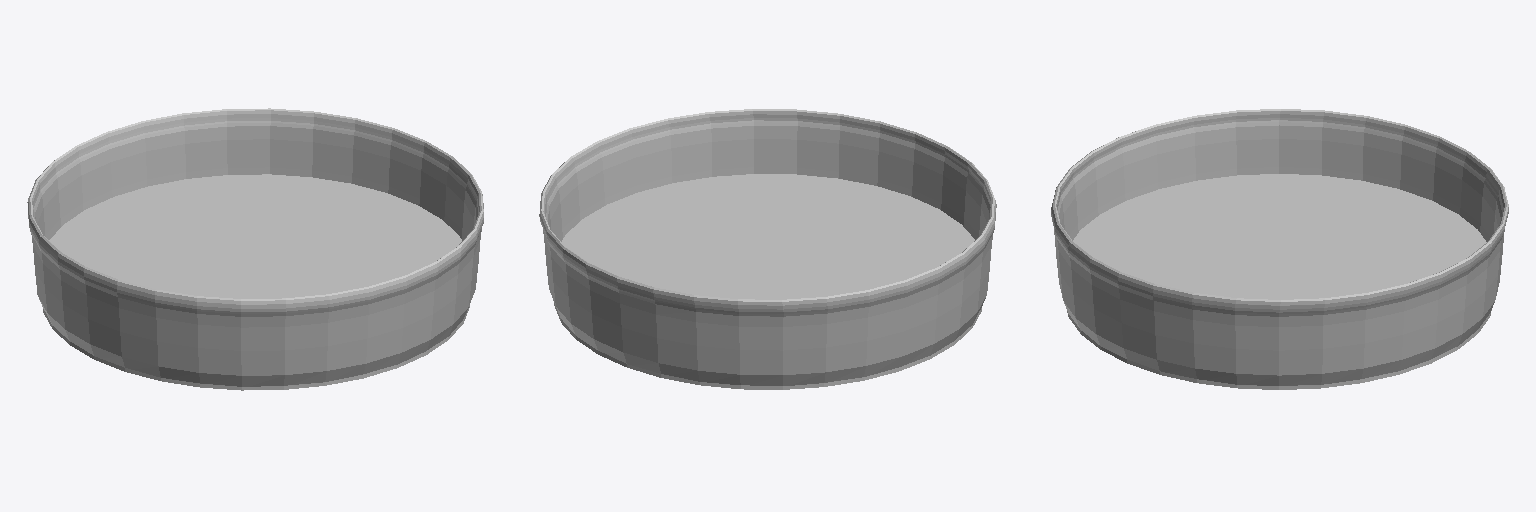
Rendered from Container_MetalPolish1.obj.
The picture shows the model from 3 angles: view 1: azimuth 30°, elevation 25°; view 2: azimuth 150°, elevation 25°; view 3: azimuth 270°, elevation 25°; orthographic projection.
Visible parts, largest first — view 1: Contaier_MetalPolishBase, Cylinder; view 2: Contaier_MetalPolishBase, Cylinder; view 3: Contaier_MetalPolishBase, Cylinder.
Boxes of the visible parts, box(x1,y1,x2,y2) form: Contaier_MetalPolishBase: box(27, 108, 483, 386); Cylinder: box(43, 174, 469, 390); Contaier_MetalPolishBase: box(539, 109, 996, 385); Cylinder: box(554, 174, 981, 389); Contaier_MetalPolishBase: box(1051, 109, 1508, 385); Cylinder: box(1067, 174, 1491, 389).
Size of the model in its own units: 1.97 by 0.4934 by 1.97.